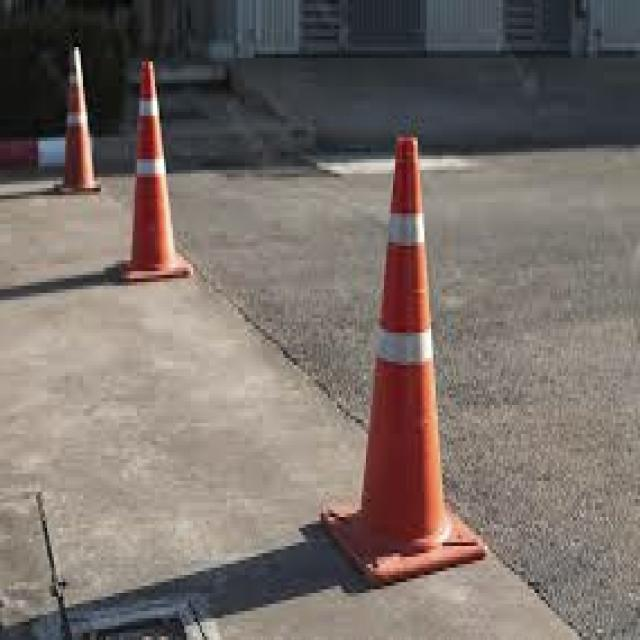cone: (305, 122, 487, 590), (107, 56, 191, 279), (45, 40, 106, 195)
